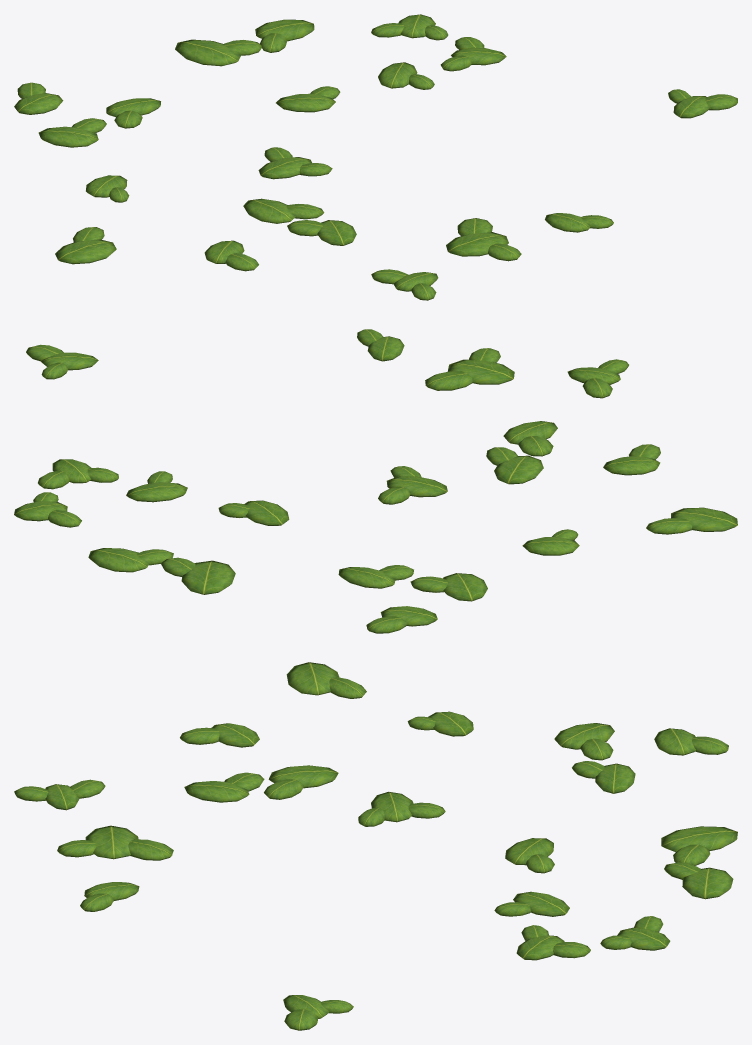
Rendered from SM_Duckweed_A.fbx.
3 views of the same model, one above another, from view 1: azimuth 30°, elevation 25°; view 2: azimuth 150°, elevation 25°; view 3: azimuth 270°, elevation 25° (orthographic). The views are drawn at different scales.
Visible parts, largest first — view 1: SM_Duckweed_A; view 2: SM_Duckweed_A; view 3: SM_Duckweed_A.
Boxes of the visible parts, x1,y1,x2,y2 form: SM_Duckweed_A: [14, 14, 737, 300]; SM_Duckweed_A: [14, 329, 737, 633]; SM_Duckweed_A: [14, 662, 737, 1030].
Bounding box in the file's own units: 0.2104 × 0.1754 × 0.002.
Materials: 1 (1 with a texture image).
